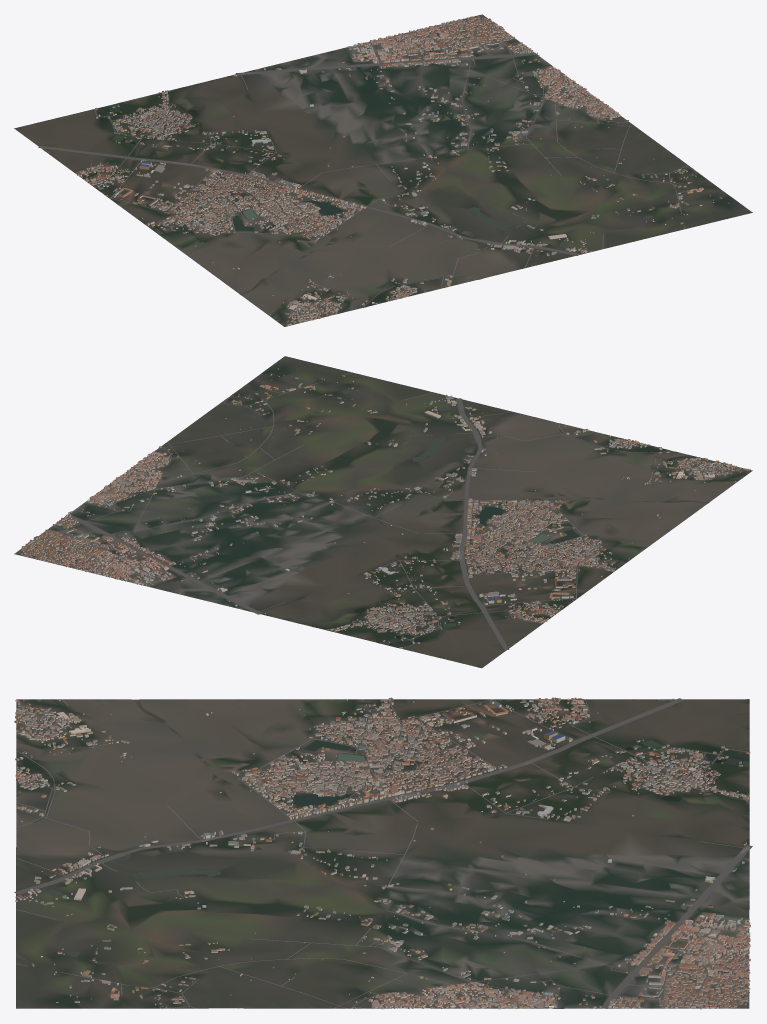
The picture shows the model from 3 angles, top to bottom: view 1: azimuth 30°, elevation 25°; view 2: azimuth 150°, elevation 25°; view 3: azimuth 270°, elevation 25°; orthographic projection. The views are drawn at different scales.
Parts seen in each view (by area): view 1: ground, buildings, roads, water; view 2: ground, buildings, roads, water; view 3: ground, buildings, roads, water.
Boxes of the visible parts, <box> form: ground: <box>14,14,752,326</box>; buildings: <box>42,15,729,326</box>; roads: <box>38,19,698,323</box>; water: <box>79,103,652,306</box>; ground: <box>14,356,752,668</box>; buildings: <box>20,368,750,648</box>; roads: <box>25,372,739,650</box>; water: <box>341,390,675,647</box>; ground: <box>16,699,749,1008</box>; buildings: <box>14,697,750,1009</box>; roads: <box>14,698,752,1008</box>; water: <box>17,704,749,956</box>.
Bounding box in the file's own units: 2818 × 29.31 × 2825.
